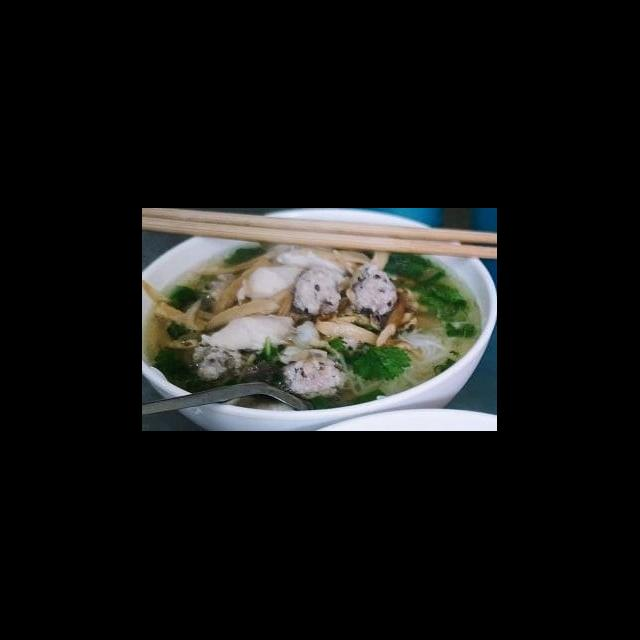bun: (394, 328, 458, 380)
vien moc: (342, 260, 404, 320), (280, 354, 350, 402), (288, 264, 346, 318), (188, 339, 245, 384)
